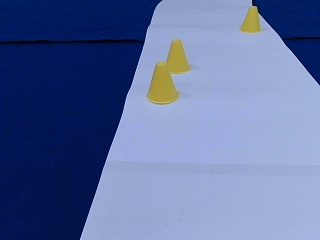cone: (146, 63, 179, 103), (165, 39, 190, 74), (240, 6, 260, 32)
